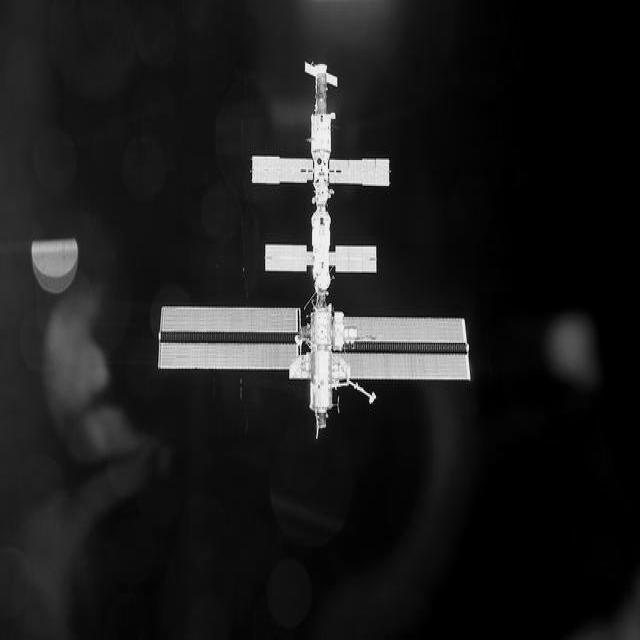medium_debris: (159, 63, 470, 435)
